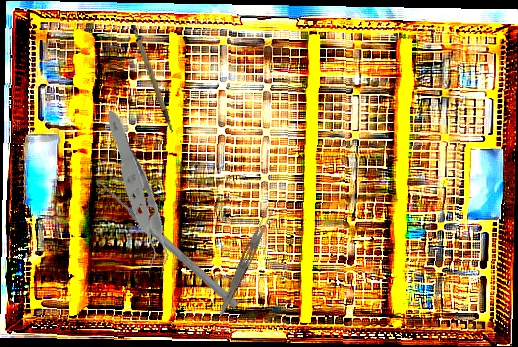Dressing Forceps: (216, 204, 277, 318)
Pusher: (93, 175, 241, 311)
Scalpel Handle: (128, 21, 175, 137)
Tissue Forceps: (73, 110, 198, 283)
